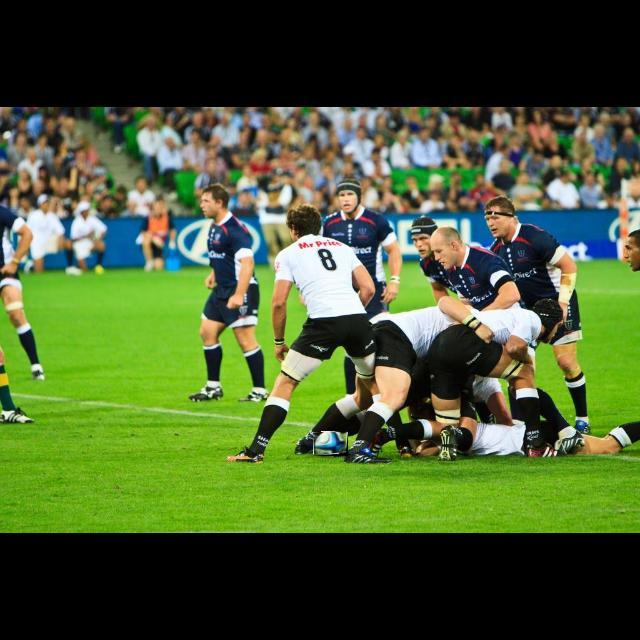Football: (314, 432, 348, 456)
